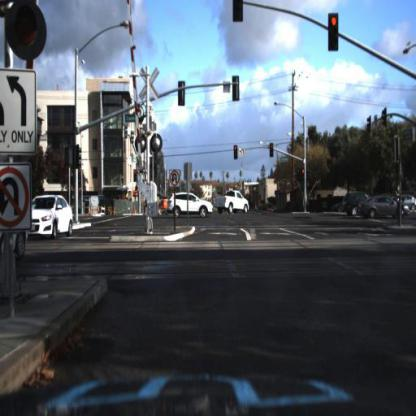car: (24, 192, 75, 240), (163, 181, 216, 219), (356, 195, 404, 219), (342, 183, 354, 221)
trafficLight: (6, 0, 44, 58), (232, 0, 244, 22)
trafficLight-Red: (327, 11, 339, 51), (268, 138, 276, 160), (232, 141, 238, 162), (300, 164, 306, 184)
truck: (213, 190, 249, 215)
